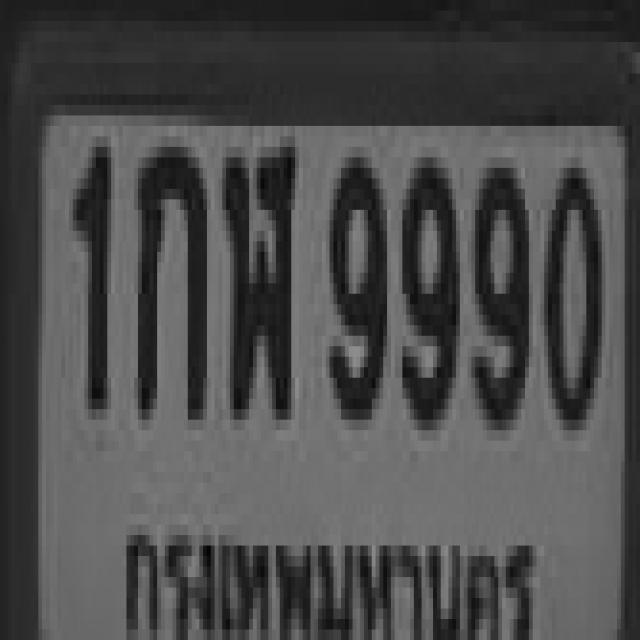0: (540, 157, 598, 420)
1: (69, 136, 107, 410)
10GorGai: (134, 136, 203, 410)
51LorChula: (222, 136, 292, 410)
9: (399, 147, 456, 420), (326, 147, 383, 409), (471, 157, 525, 420)
Bangkok: (111, 503, 548, 640)
